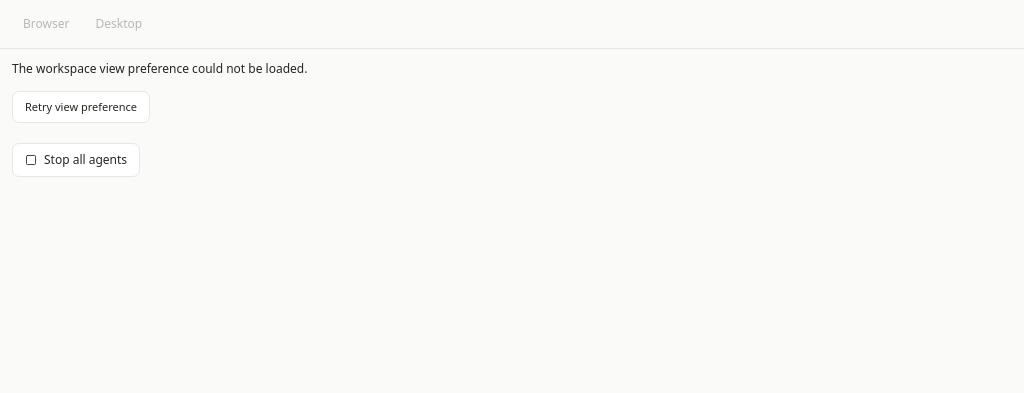
remembered workspace browser view › offers a real scoped retry for a failed preference load without starting a browser
The width and height of the screenshot is (1024, 393).
Expected: the text "The workspace view preference could not be loaded." is shown, [12, 60, 307, 77]
What coordinates should you click on to do the following:
click the button "Retry view preference"
I would click on:
 (81, 107)
Its box is [12, 91, 150, 123].
Wait 1 ms
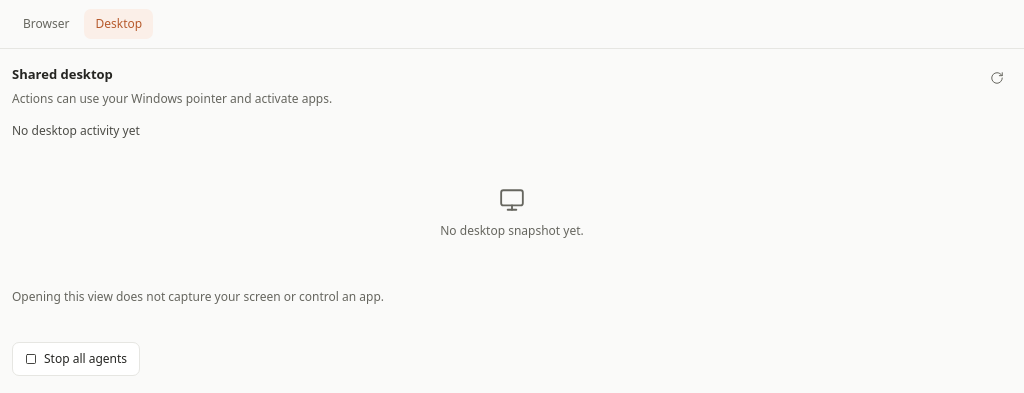
Expected: the element named "Desktop activity" is shown
